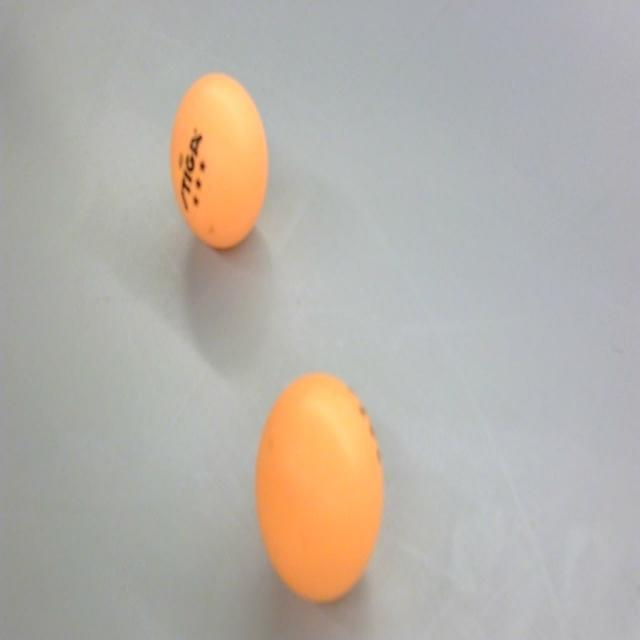ball: (254, 368, 388, 608), (170, 70, 268, 252)
